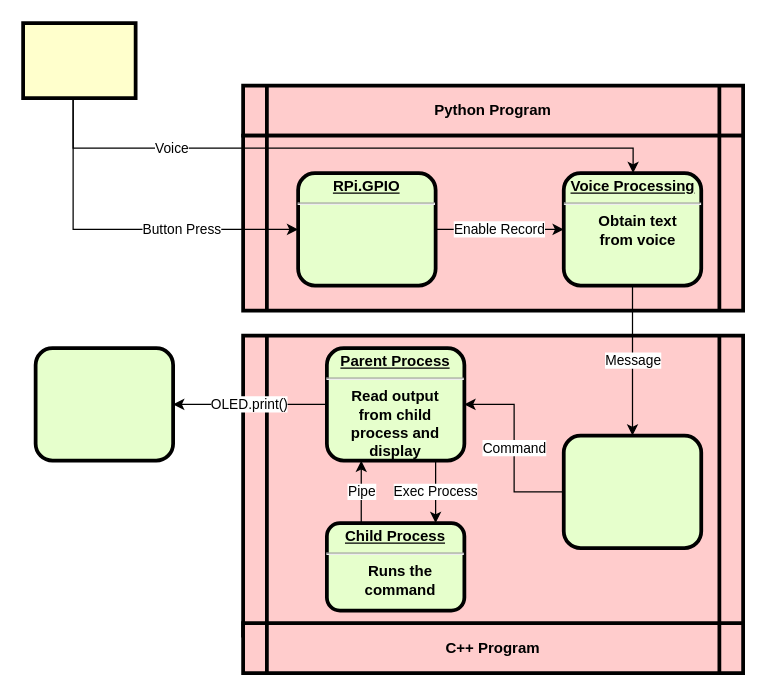
Some shapes in this 766 by 696 pixel diagram are drawn without their labels. Each missing label, with the centre of its shape:
"OLED DIsplay Displays the screen" belongs at point (103, 404).
"TCP Listener Listens commands to execute" belongs at point (631, 491).
"User" belongs at point (79, 60).
